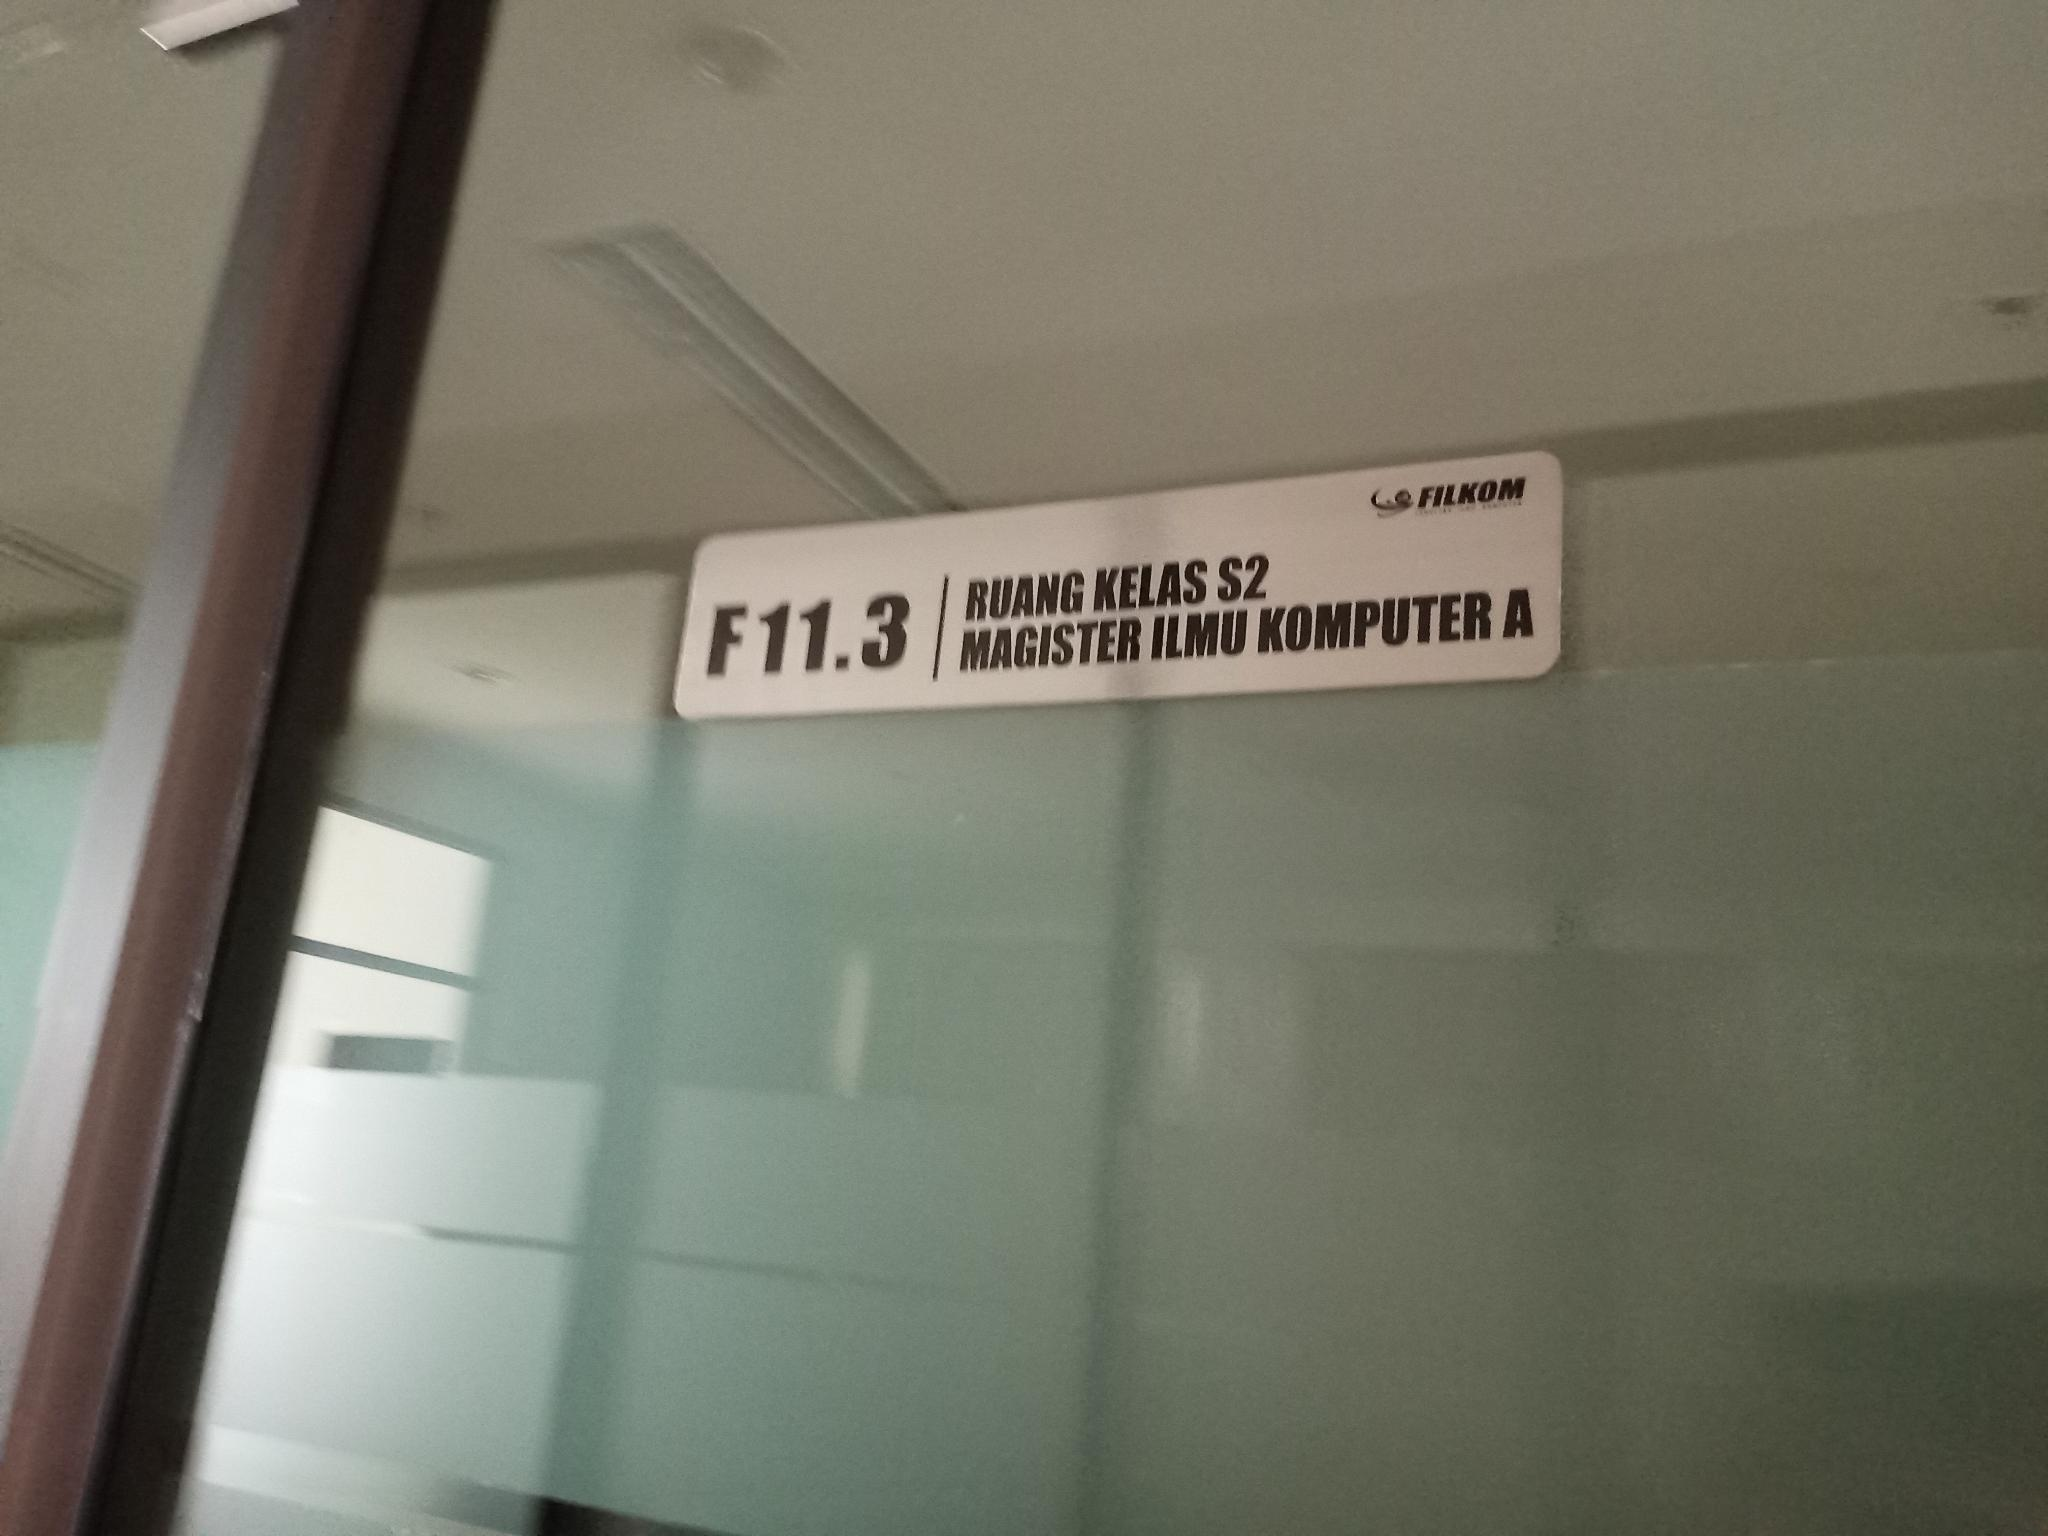plate: (669, 450, 1563, 718)
